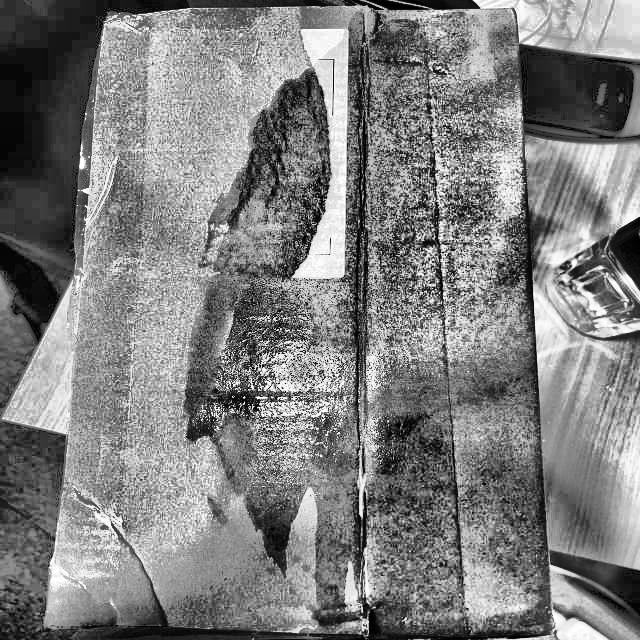box: (35, 2, 564, 639)
wet: (359, 18, 546, 625), (177, 68, 350, 612)
